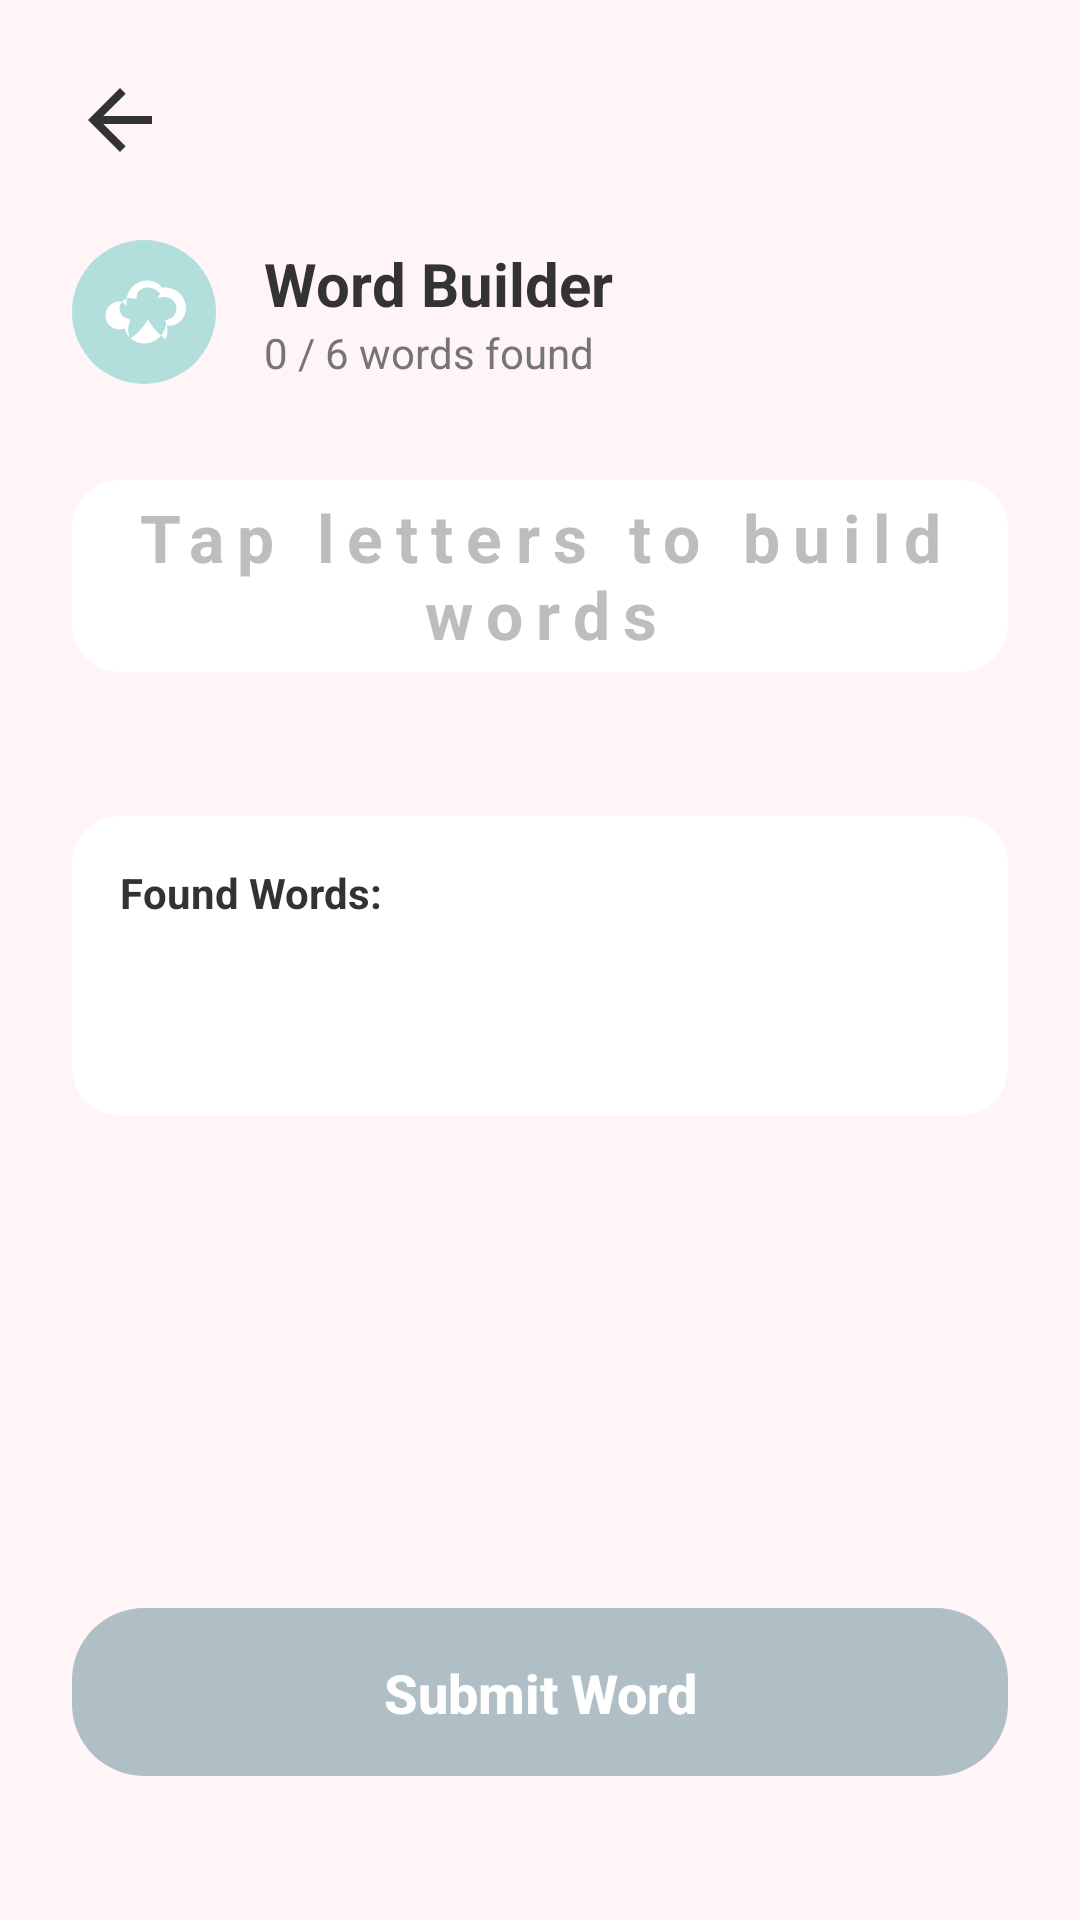

Point at icon controls on the screen. Image size 1080*1920, points as point (x, y).
arrow back: point (120, 120)
